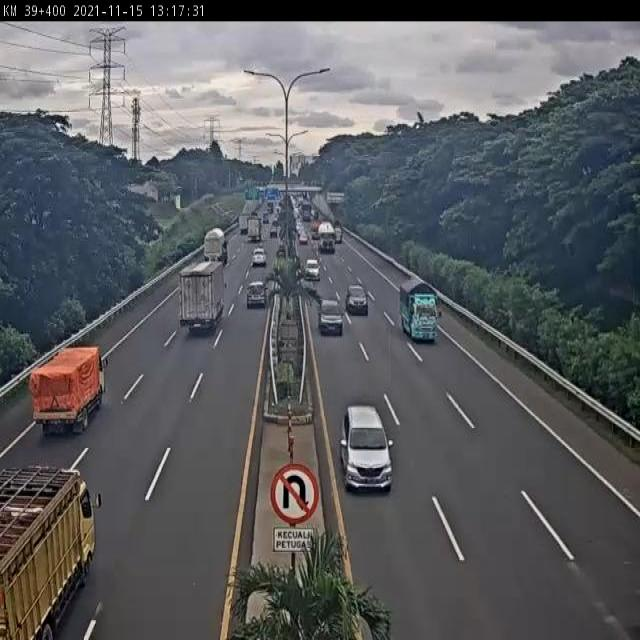Car: (340, 403, 392, 492), (314, 293, 346, 337), (345, 284, 368, 315), (246, 280, 266, 308), (304, 258, 321, 281), (252, 248, 267, 266), (298, 231, 308, 245), (270, 223, 278, 237), (263, 213, 269, 223)
Truck: (0, 467, 97, 638), (28, 345, 106, 437), (171, 257, 230, 340), (400, 274, 439, 342), (203, 228, 227, 265), (317, 222, 336, 255), (246, 216, 262, 242), (310, 219, 322, 238), (301, 202, 312, 222), (239, 214, 249, 234)
